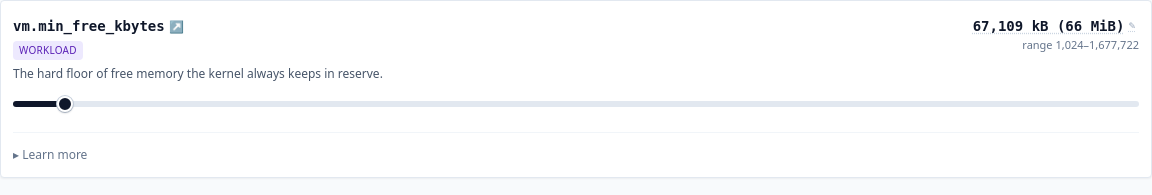
Test: ParameterCard click-to-edit value › swaps the value display for a number input on click
This screenshot has width=1152, height=195.
Click the button titled "Click to type an exact value".
click(1054, 26)  # box [969, 16, 1139, 36]
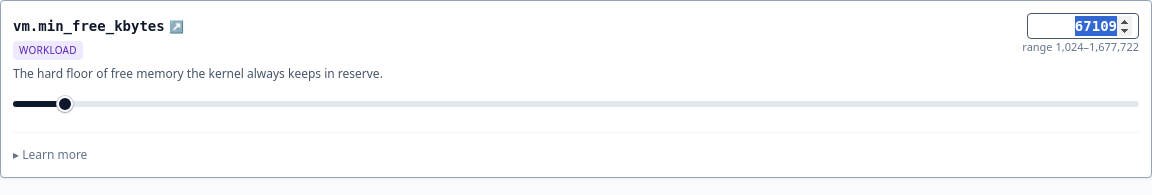
Result: the number field named "vm.min_free_kbytes value" is shown at [1027, 13, 1139, 39]
